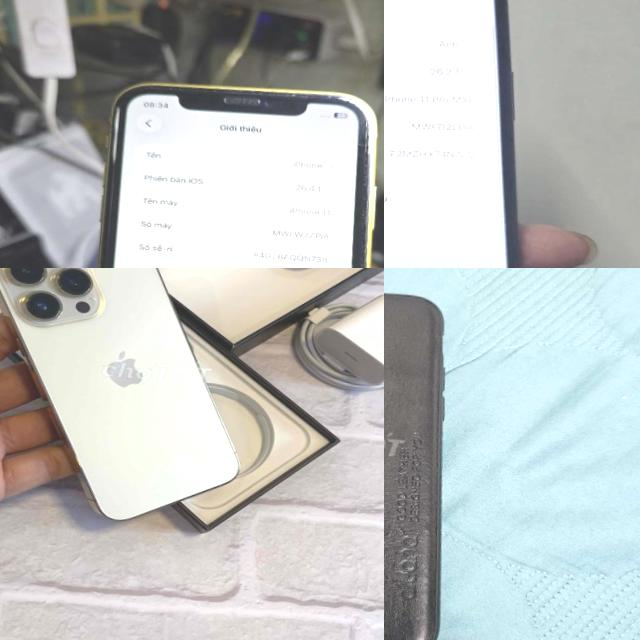gen_11: (63, 65, 384, 268), (384, 0, 575, 268)
gen_12_13: (0, 268, 265, 534)
gen_6: (384, 272, 493, 640)
scratch: (202, 78, 380, 115), (356, 158, 376, 232), (105, 101, 124, 164), (354, 116, 379, 156)
